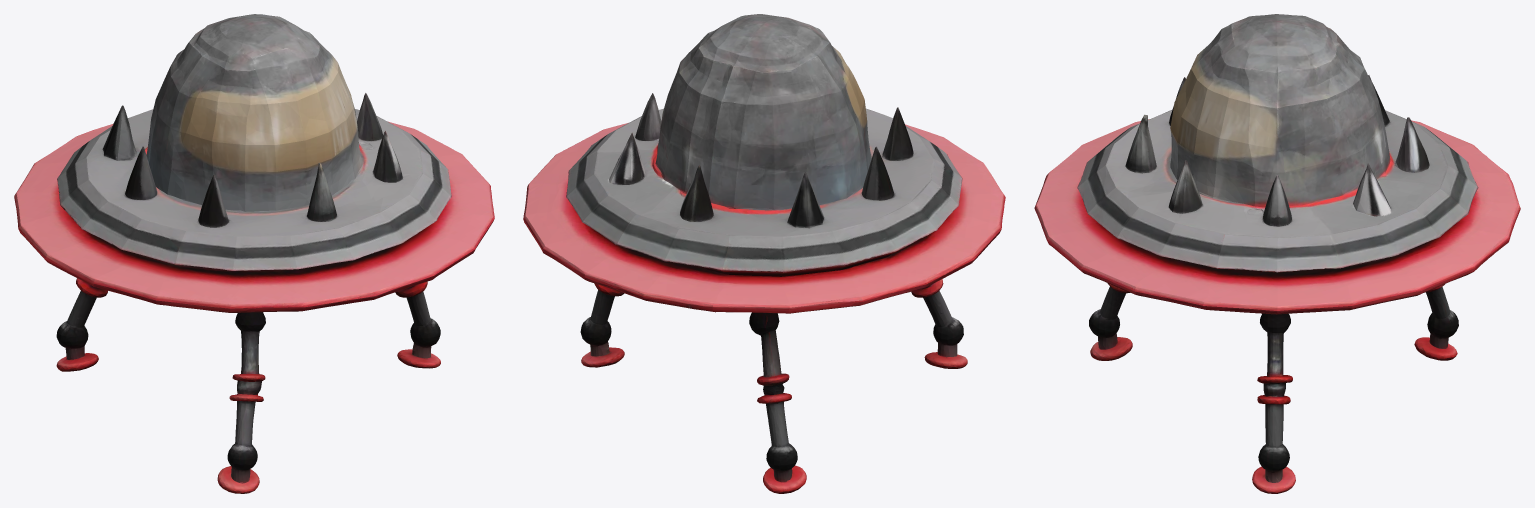
The model's file is partflow_t03.glb.
3 views of the same model, side by side, from view 1: azimuth 30°, elevation 25°; view 2: azimuth 150°, elevation 25°; view 3: azimuth 270°, elevation 25° (orthographic).
Parts seen in each view (by area): view 1: geometry_0; view 2: geometry_0; view 3: geometry_0.
Boxes of the visible parts, x1,y1,x2,y2 form: geometry_0: (14, 14, 494, 493); geometry_0: (523, 14, 1005, 493); geometry_0: (1034, 14, 1520, 493).
Bounding box in the file's own units: 2 × 1.74 × 2.
Materials: 1 (1 with a texture image).
